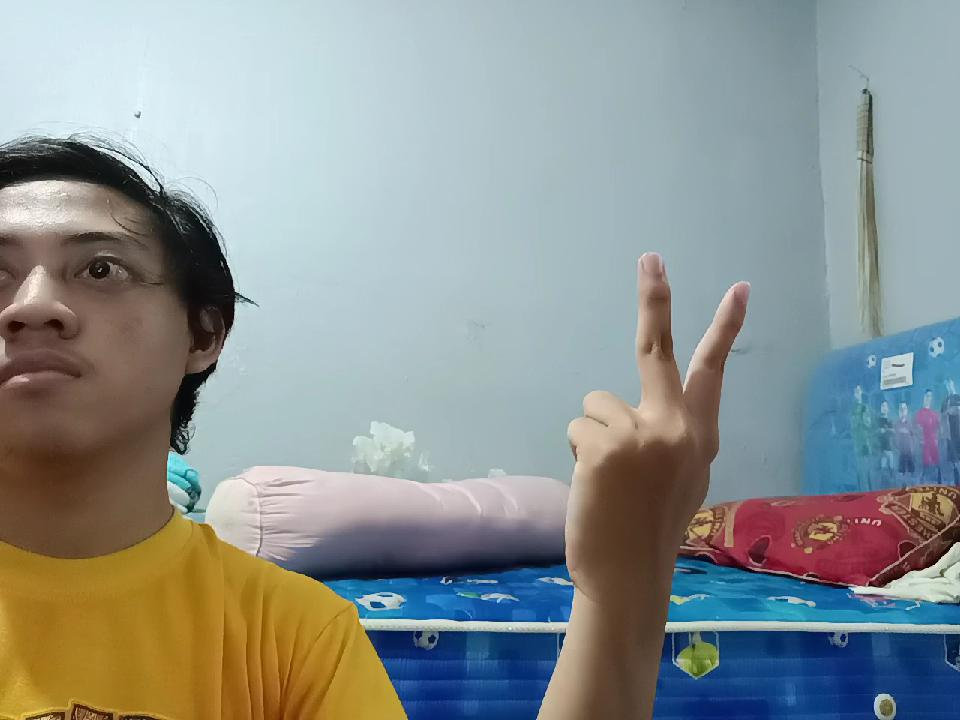scissors: (554, 238, 750, 600)
